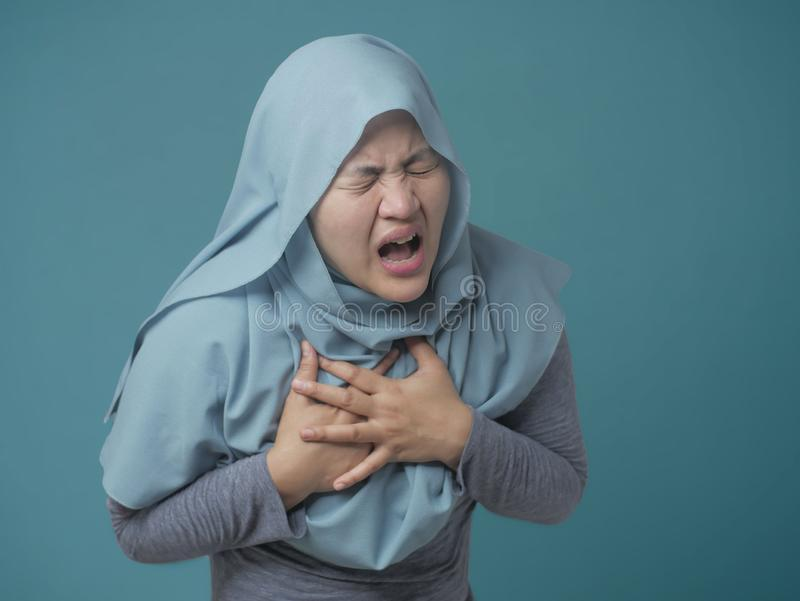pain: (336, 145, 452, 195)
